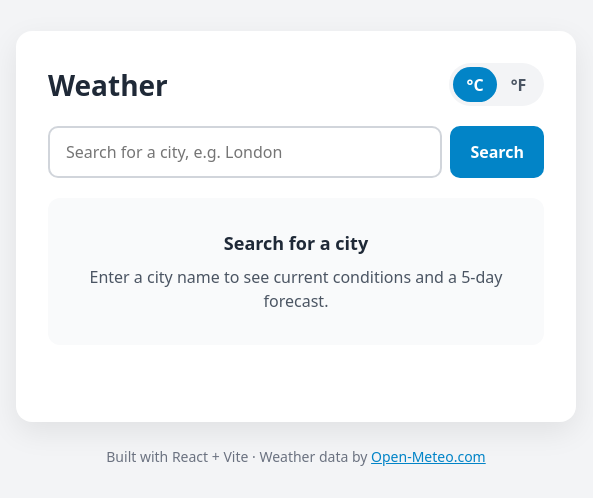
it: App › shows a validation error for an empty search
This screenshot has width=593, height=498.
Step 1. Click the button "Search" → (497, 152), box [450,126,544,178]
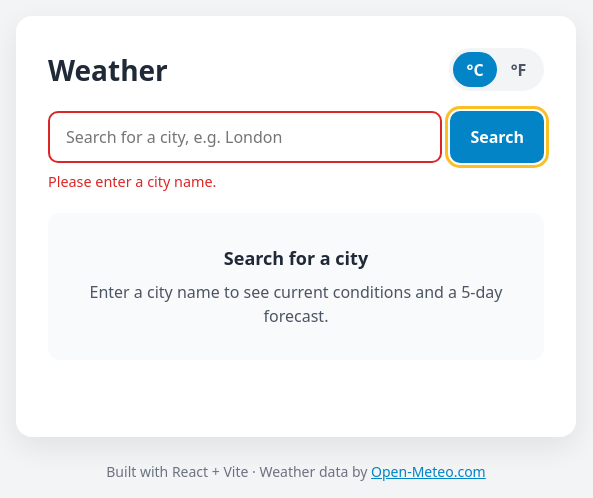
Check: the message reads "Please enter a city name.", box [48,172,216,191]
